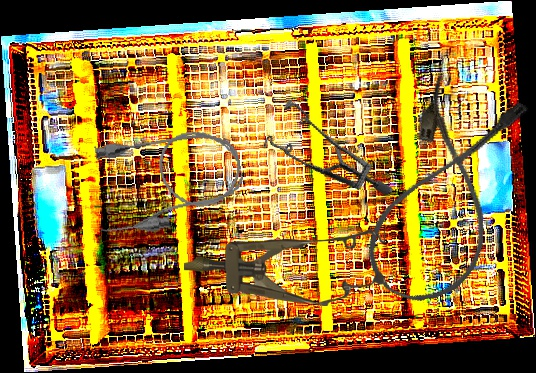Cannula: (355, 70, 536, 318), (85, 119, 250, 242)
Speculum: (251, 76, 394, 234), (184, 226, 385, 306)
